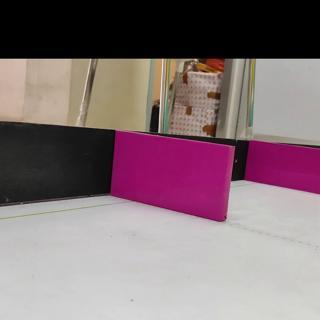xparking: (116, 144, 229, 209), (259, 146, 320, 190)
